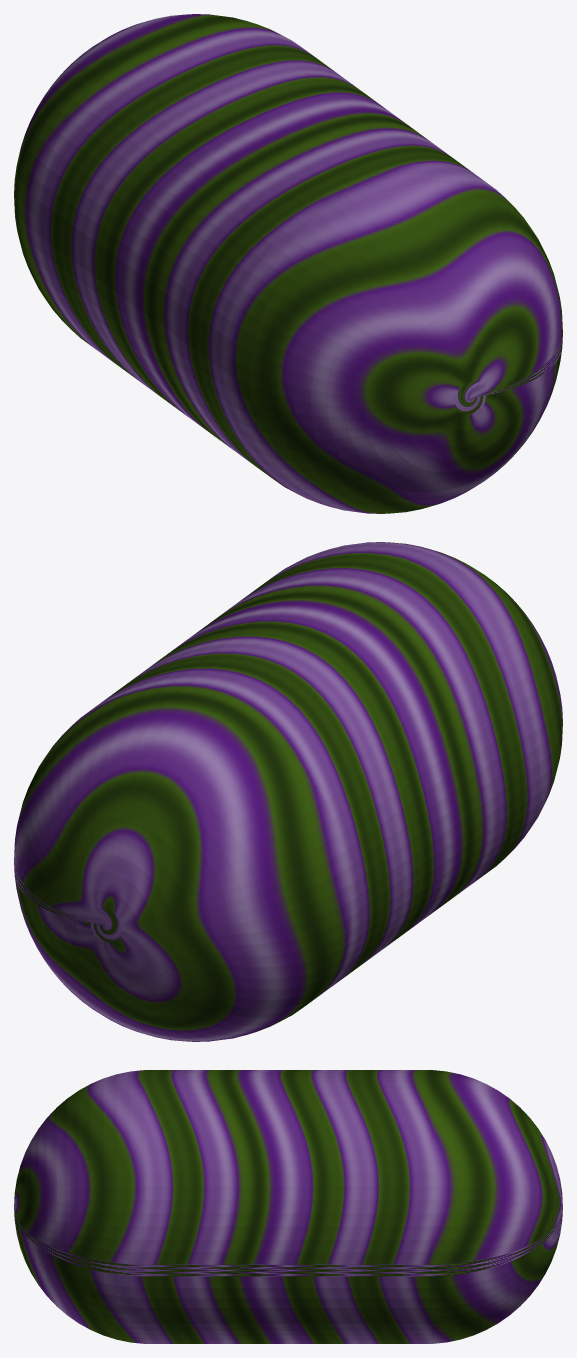
Rendered from capsule-cosmic-c2.glb.
The picture shows the model from 3 angles, top to bottom: view 1: azimuth 30°, elevation 25°; view 2: azimuth 150°, elevation 25°; view 3: azimuth 270°, elevation 25°; orthographic projection. The views are drawn at different scales.
Parts seen in each view (by area): view 1: world; view 2: world; view 3: world.
Boxes of the visible parts, x1=… form: world: x1=14, y1=14, x2=562, y2=513; world: x1=14, y1=542, x2=562, y2=1041; world: x1=14, y1=1070, x2=562, y2=1343.
Bounding box in the file's own units: 0.6991 × 0.6991 × 1.4.
Materials: 1 (1 with a texture image).
